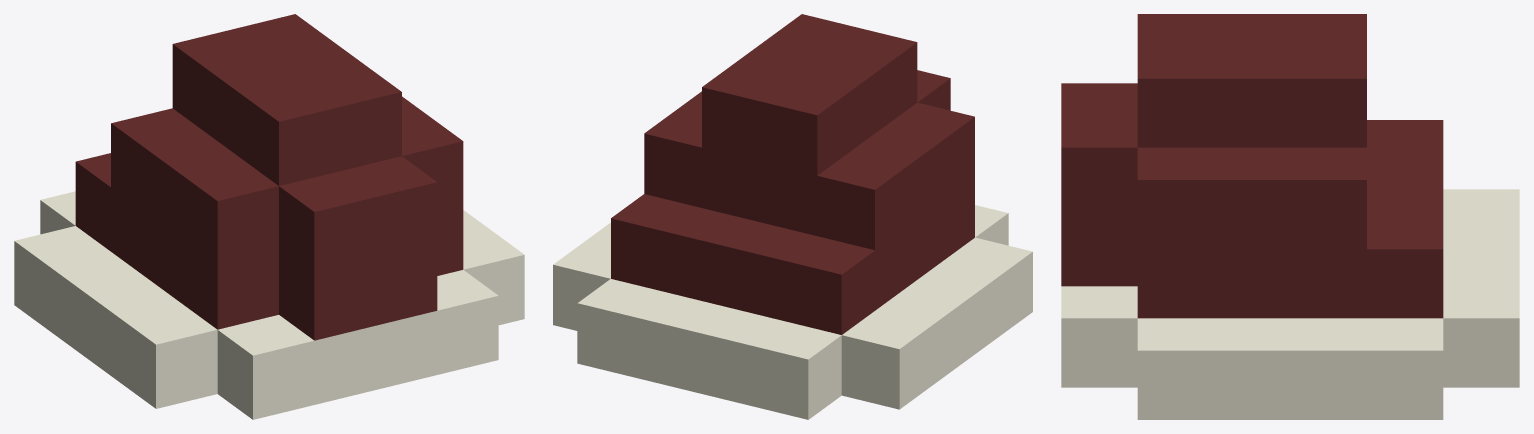
Rendered from char-263-helm_lgt_2b_du_color.obj.
The picture shows the model from 3 angles, left to right: view 1: azimuth 30°, elevation 25°; view 2: azimuth 150°, elevation 25°; view 3: azimuth 270°, elevation 25°; orthographic projection. The views are drawn at different scales.
Parts seen in each view (by area): view 1: helm_lgt_2b_du_color; view 2: helm_lgt_2b_du_color; view 3: helm_lgt_2b_du_color.
Boxes of the visible parts, x1,y1,x2,y2 form: helm_lgt_2b_du_color: (14,14,524,419); helm_lgt_2b_du_color: (553,14,1032,419); helm_lgt_2b_du_color: (1061,14,1519,419).
Size of the model in its own units: 0.6 by 0.4 by 0.6.
Materials: 1 (1 with a texture image).
